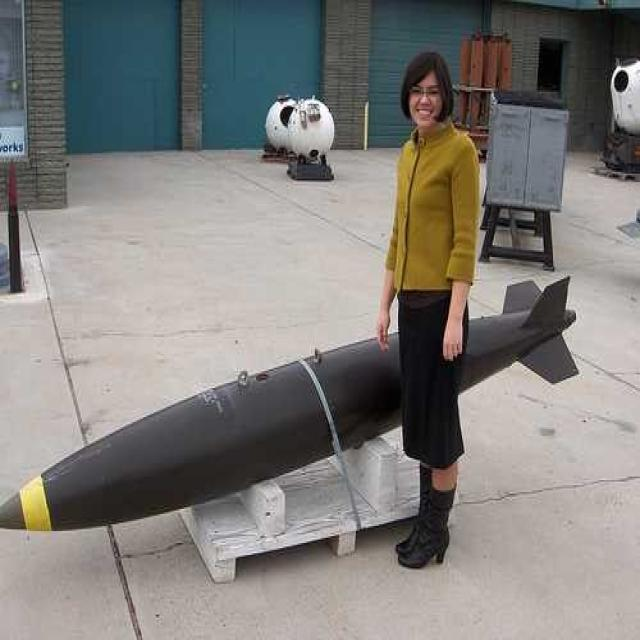missile: (8, 256, 584, 559)
